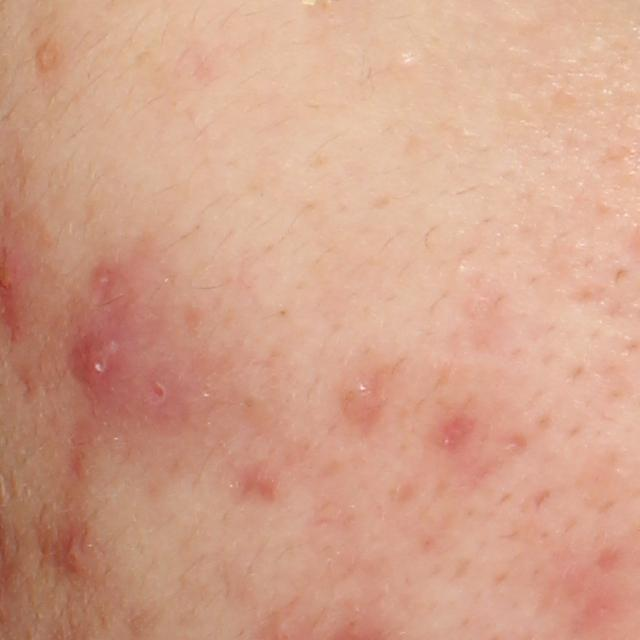comedo: (395, 52, 413, 72)
papule: (68, 324, 131, 392), (336, 374, 391, 421), (53, 532, 92, 578)
